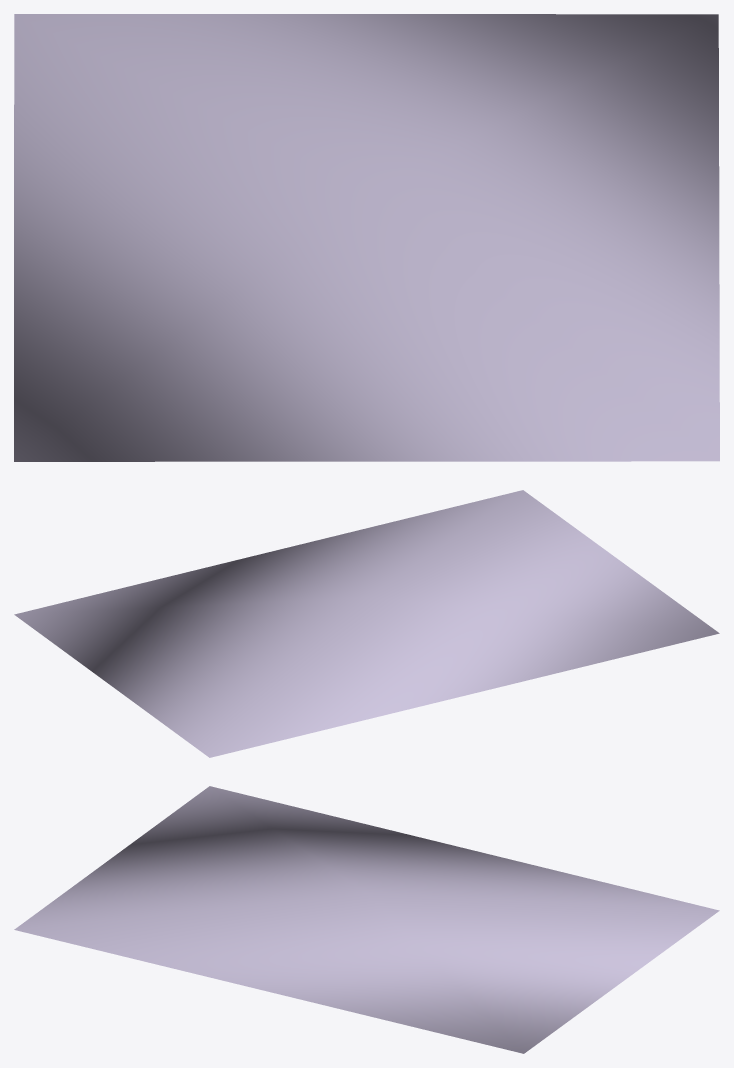
Rendered from paperold1.fbx.
The picture shows the model from 3 angles, top to bottom: view 1: azimuth 30°, elevation 25°; view 2: azimuth 150°, elevation 25°; view 3: azimuth 270°, elevation 25°; orthographic projection. The views are drawn at different scales.
Visible parts, largest first — view 1: envelope1; view 2: envelope1; view 3: envelope1.
Part boxes in pixels (x1,y1,x2,y2): envelope1: (14,14,719,461); envelope1: (14,490,719,757); envelope1: (14,786,719,1053).
Size of the model in its own units: 64.17 by 2.95 by 71.47.
